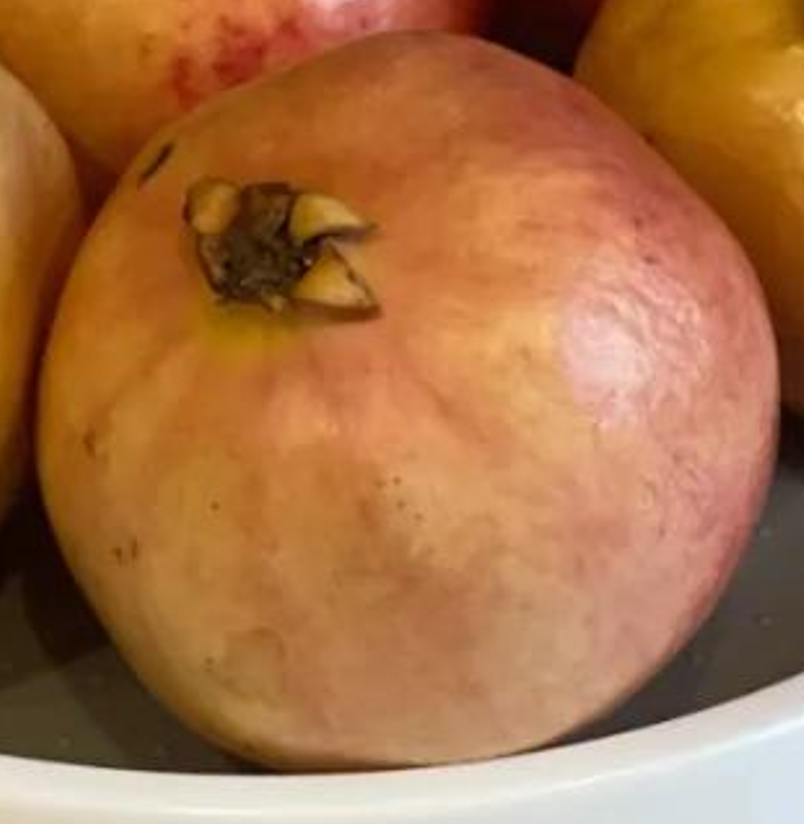pomegranate_B: (36, 30, 782, 766)
